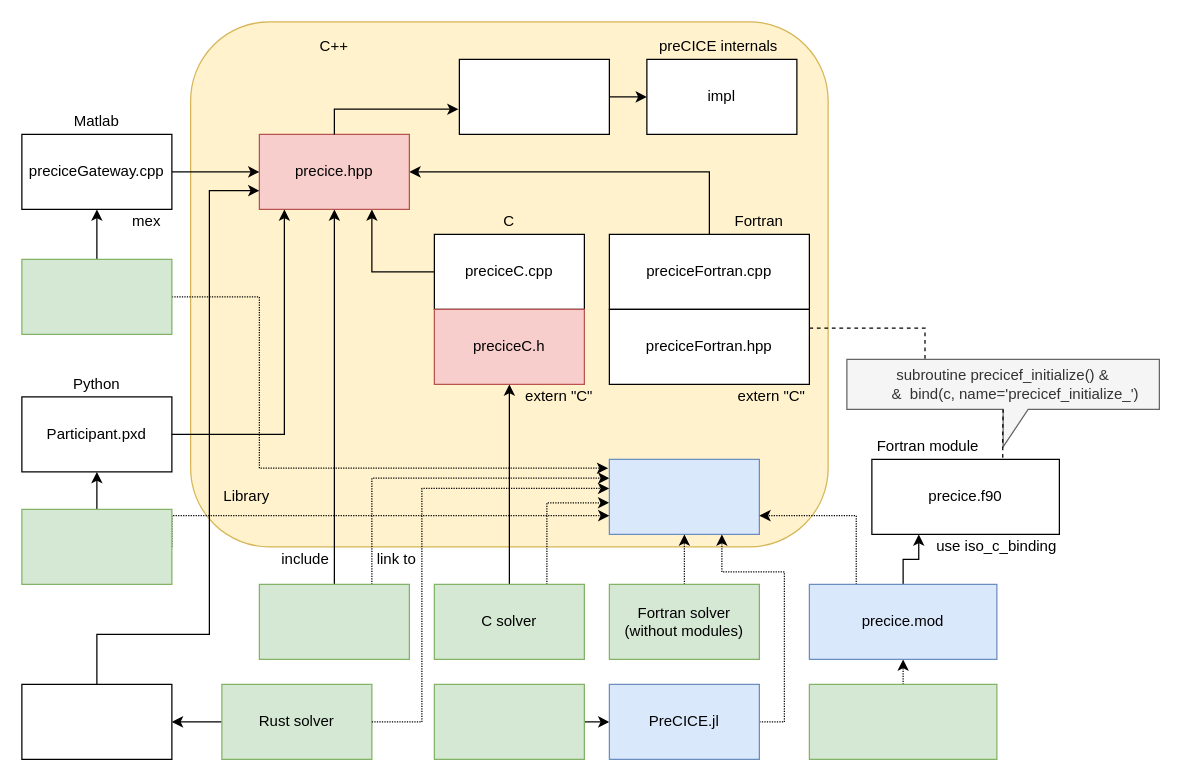
Image size: 1181x781. Some labels were removed from this diagram. Here are the shapes that lost their labels. From the top down, the centre of each, then its label:
[533,96]: Participant.hpp Version.h (span.hpp, ...)
[96,296]: Matlab solver
[683,496]: libprecice.so
[96,546]: Python solver
[333,621]: C++ solver
[96,721]: precice-bridge.cpp
[508,721]: Julia solver
[902,721]: Fortran solver (modules supported)
